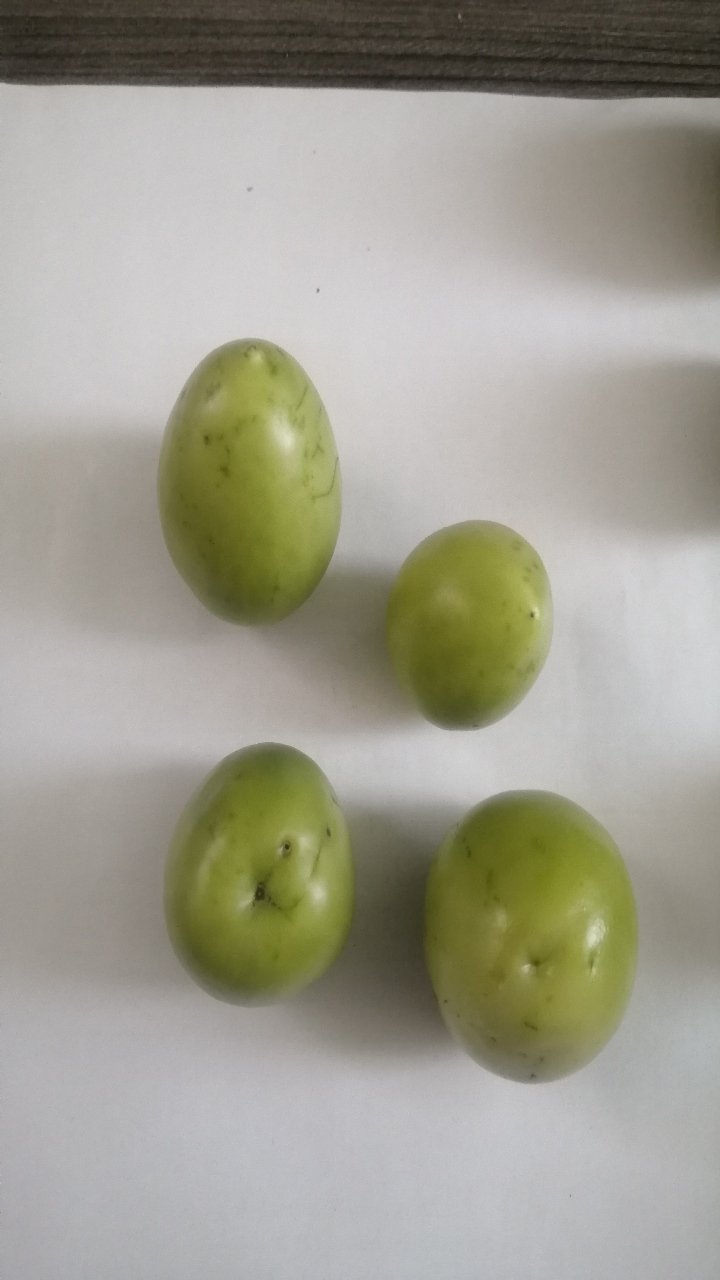tomateVerde: (408, 769, 677, 1139), (129, 319, 348, 655), (149, 732, 369, 1034), (371, 491, 571, 742)
